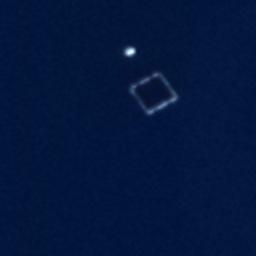square_solid: (127, 68, 183, 119)
